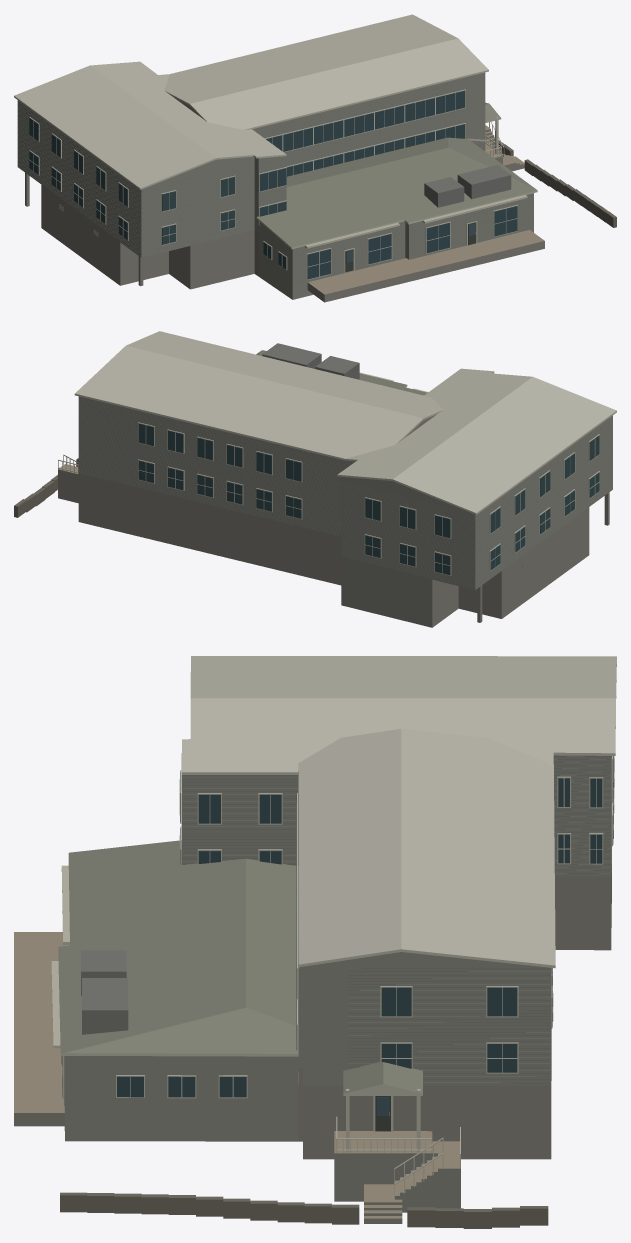
The model's file is site.glb.
3 views of the same model, one above another, from view 1: azimuth 30°, elevation 25°; view 2: azimuth 150°, elevation 25°; view 3: azimuth 270°, elevation 25° (orthographic). The views are drawn at different scales.
Parts seen in each view (by area): view 1: roof-9dfbc1af, onyx-house-approaches; view 2: roof-9dfbc1af, onyx-house-approaches; view 3: roof-9dfbc1af, onyx-house-approaches.
Boxes of the visible parts, x1,y1,x2,y2 form: roof-9dfbc1af: (14, 14, 537, 299); onyx-house-approaches: (307, 125, 616, 302); roof-9dfbc1af: (58, 331, 616, 627); onyx-house-approaches: (14, 458, 78, 517); roof-9dfbc1af: (51, 656, 616, 1199); onyx-house-approaches: (14, 932, 548, 1228).
Bounding box in the file's own units: 42.52 × 12.88 × 30.13.
